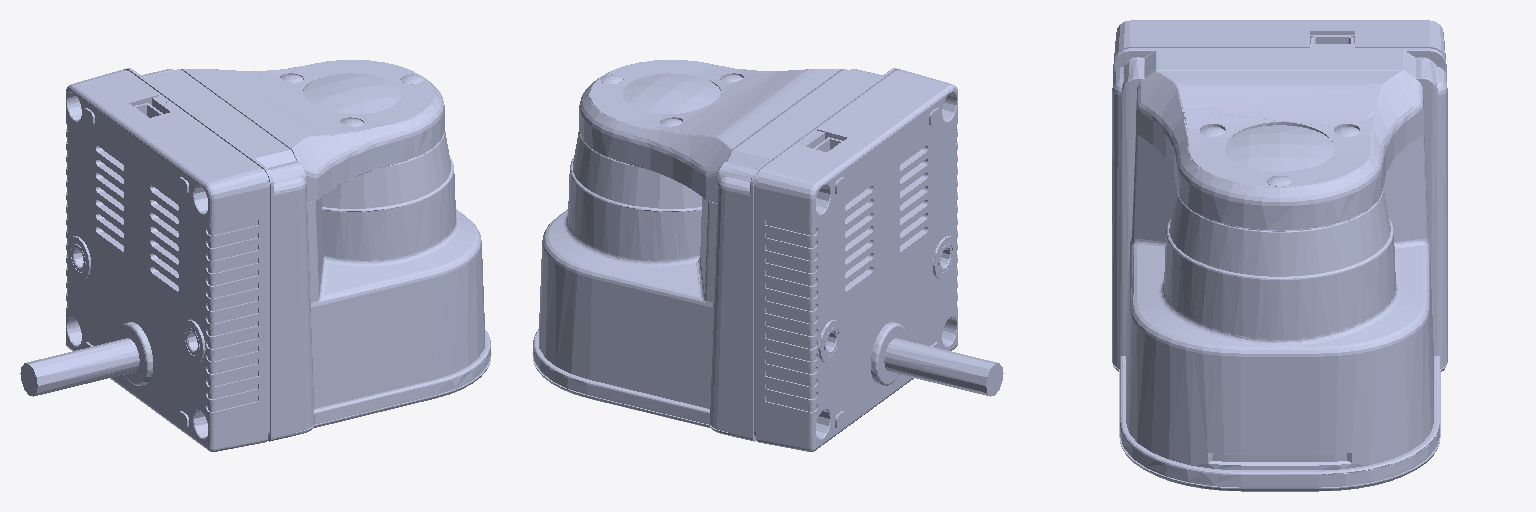
robot.urdf — final_design_2:
<robot
  name="final_design_2">
  <link
    name="base_link">
    <inertial>
      <origin
        xyz="-0.079672 -8.8492E-05 0.10557"
        rpy="0 0 0" />
      <mass
        value="20.951" />
      <inertia
        ixx="1.3569"
        ixy="-0.00017808"
        ixz="0.01385"
        iyy="1.2052"
        iyz="0.0001414"
        izz="0.51557" />
    </inertial>
    <visual>
      <origin
        xyz="0 0 0"
        rpy="0 0 0" />
      <geometry>
        <mesh
          filename="package://final_design_2/meshes/base_link.STL" />
      </geometry>
      <material
        name="">
        <color
          rgba="0.75294 0.75294 0.75294 1" />
      </material>
    </visual>
    <collision>
      <origin
        xyz="0 0 0"
        rpy="0 0 0" />
      <geometry>
        <mesh
          filename="package://final_design_2/meshes/base_link.STL" />
      </geometry>
    </collision>
  </link>
  <link
    name="base_scan">
    <inertial>
      <origin
        xyz="-0.0180076264572657 -9.1975537817035E-06 -0.00889838617849367"
        rpy="0 0 0" />
      <mass
        value="0.204546095056679" />
      <inertia
        ixx="1.80411576967838E-09"
        ixy="-2.92716590806063E-10"
        ixz="4.18096533393512E-10"
        iyy="1.68746981316781E-09"
        iyz="2.16004476190685E-10"
        izz="1.40520118951431E-09" />
    </inertial>
    <visual>
      <origin
        xyz="0 0 0"
        rpy="0 0 0" />
      <geometry>
        <mesh
          filename="package://final_design_2/meshes/base_laser.STL" />
      </geometry>
      <material
        name="">
        <color
          rgba="0.792156862745098 0.819607843137255 0.933333333333333 1" />
      </material>
    </visual>
    <collision>
      <origin
        xyz="0 0 0"
        rpy="0 0 0" />
      <geometry>
        <mesh
          filename="package://final_design_2/meshes/base_laser.STL" />
      </geometry>
    </collision>
  </link>
  <link
    name="imu_link">
  </link>
  <joint
    name="hokuyo"
    type="fixed">
    <origin
      xyz="0.1435 0 0.036"
      rpy="0 0 0" />
    <parent
      link="base_link" />
    <child
      link="base_scan" />
    <axis
      xyz="0 0 1" />
  </joint>
  <joint
    name="imu_joint"
    type="fixed">
    <origin
      xyz="0 0 0.036"
      rpy="0 0 0" />
    <parent
      link="base_link" />
    <child
      link="imu_link" />
    <axis
      xyz="0 0 1" />
  </joint>
</robot>

--- Facts derived from the render (not from the file) ---
Views: 3 orthographic renders of the robot side by side, from view 1: azimuth 30°, elevation 25°; view 2: azimuth 150°, elevation 25°; view 3: azimuth 270°, elevation 25°.
Robot: final_design_2 — 3 links, 2 joints (2 fixed); root link base_link; default pose: every joint at zero.
Visible links, largest first — view 1: base_scan; view 2: base_scan; view 3: base_scan.
Link boxes in pixels (x1=…): base_scan: x1=20, y1=60, x2=491, y2=451; base_scan: x1=532, y1=60, x2=1003, y2=451; base_scan: x1=1112, y1=20, x2=1447, y2=491.
Size in the robot's own frame: 0.1002 by 0.0606 by 0.06 metres.
1 mesh visuals loaded from 2 distinct referenced files (1 binary STL); not drawn: 1 (reference not matched to a file when rendering).